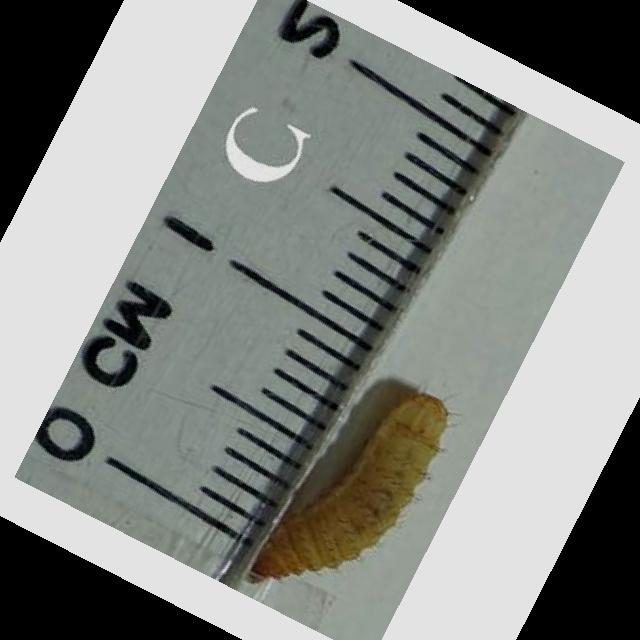Maggot: (243, 387, 452, 585)
